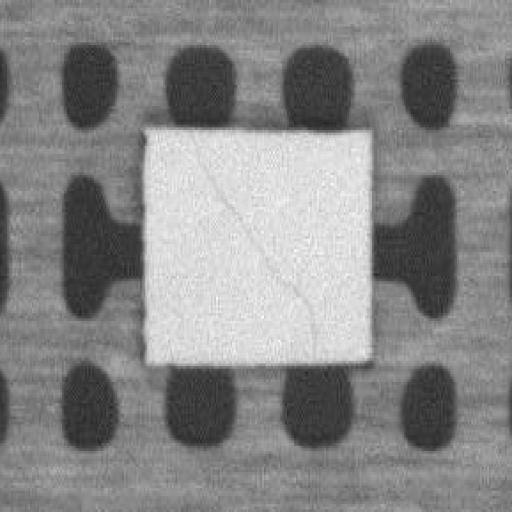DIE_CRACK: (186, 127, 314, 358)
